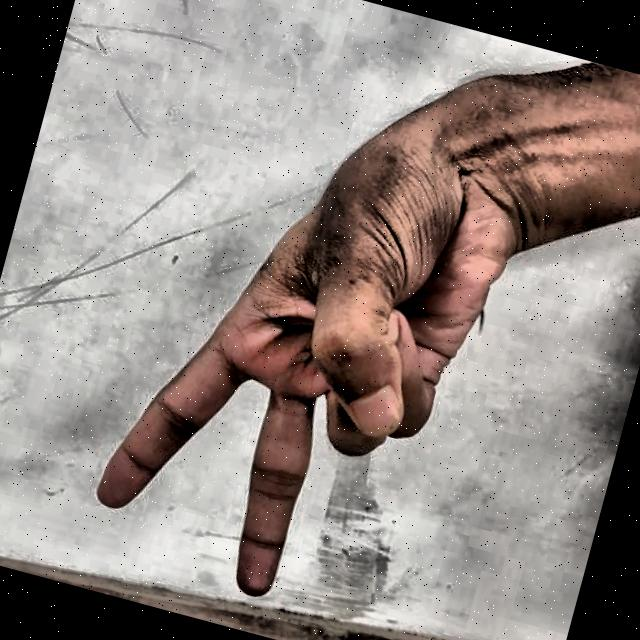Pa: (54, 26, 563, 640)
